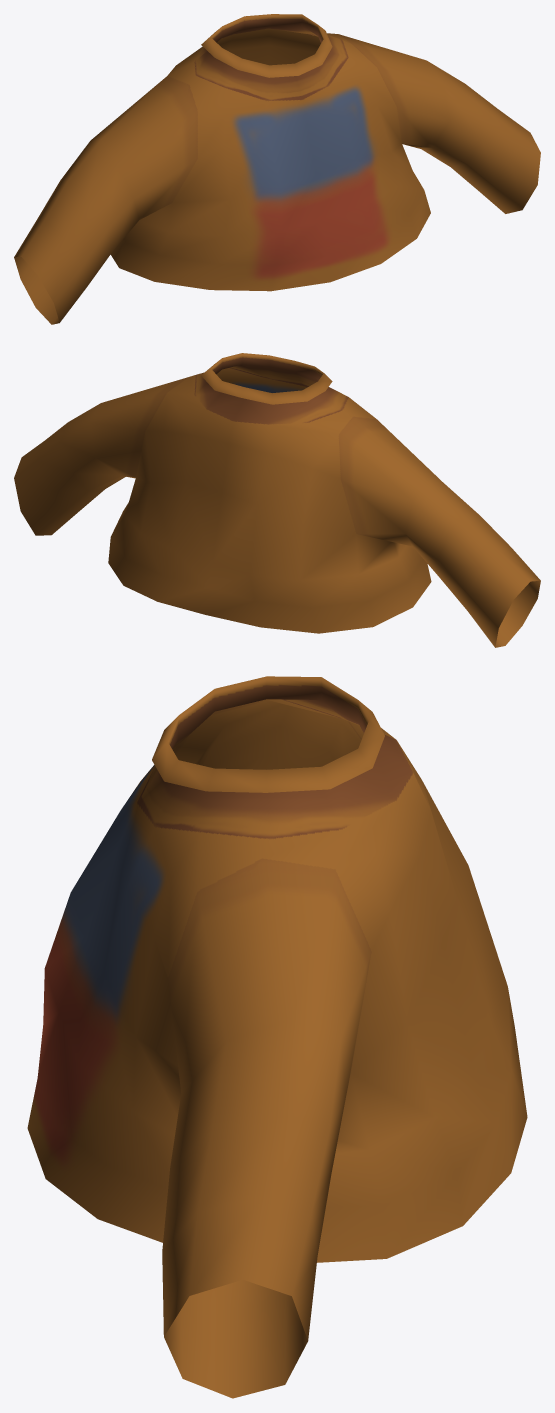
Rendered from Maf_Rothko.glb.
The picture shows the model from 3 angles, top to bottom: view 1: azimuth 30°, elevation 25°; view 2: azimuth 150°, elevation 25°; view 3: azimuth 270°, elevation 25°; orthographic projection. The views are drawn at different scales.
Parts seen in each view (by area): view 1: Maf_Rothko; view 2: Maf_Rothko; view 3: Maf_Rothko.
Part boxes in pixels (bbox=[...]): Maf_Rothko: bbox=[14, 14, 540, 324]; Maf_Rothko: bbox=[14, 353, 540, 647]; Maf_Rothko: bbox=[27, 676, 527, 1398].
Size of the model in its own units: 0.9574 by 0.4104 by 0.4073.
Materials: 1 (1 with a texture image).
